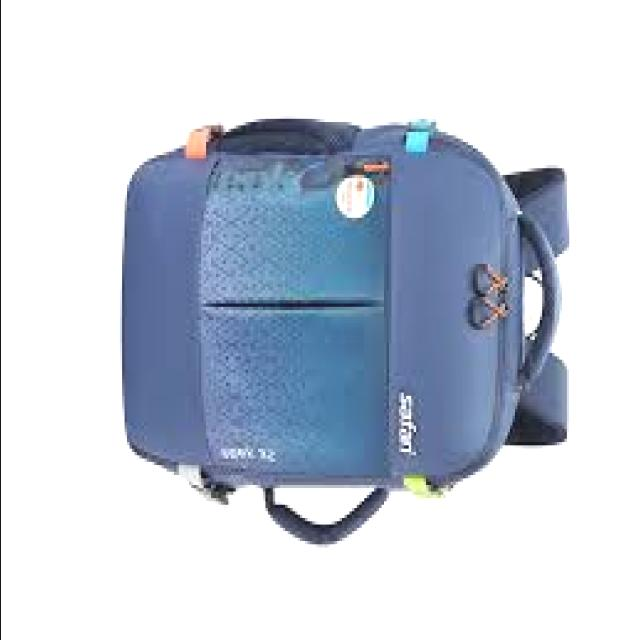backpack: (122, 117, 572, 546)
